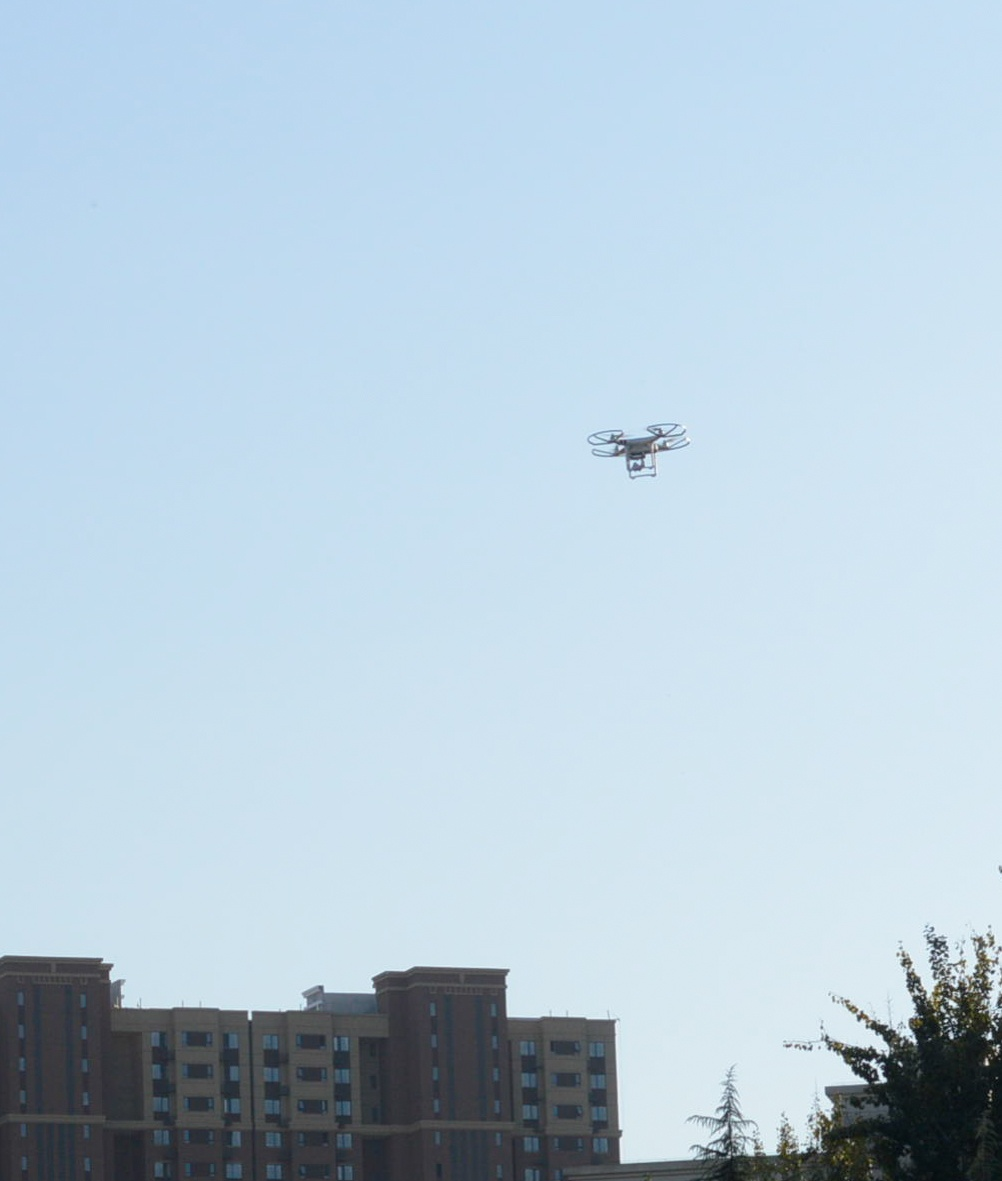DJI: (584, 421, 693, 478)
